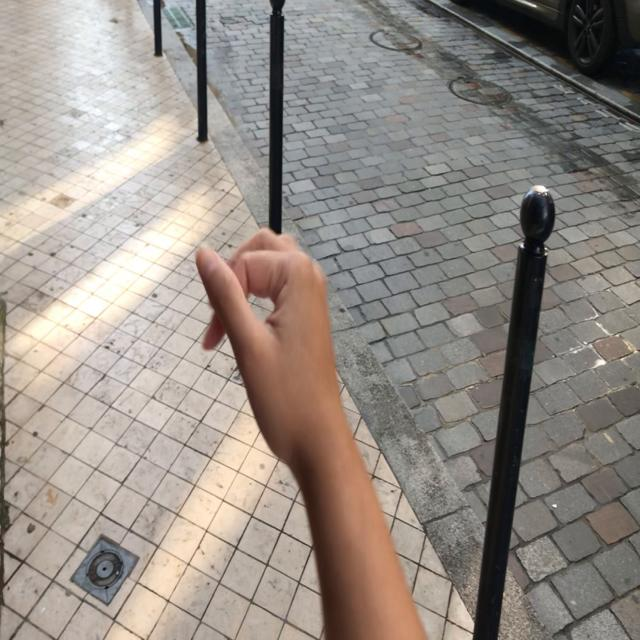hand: (191, 224, 338, 460)
